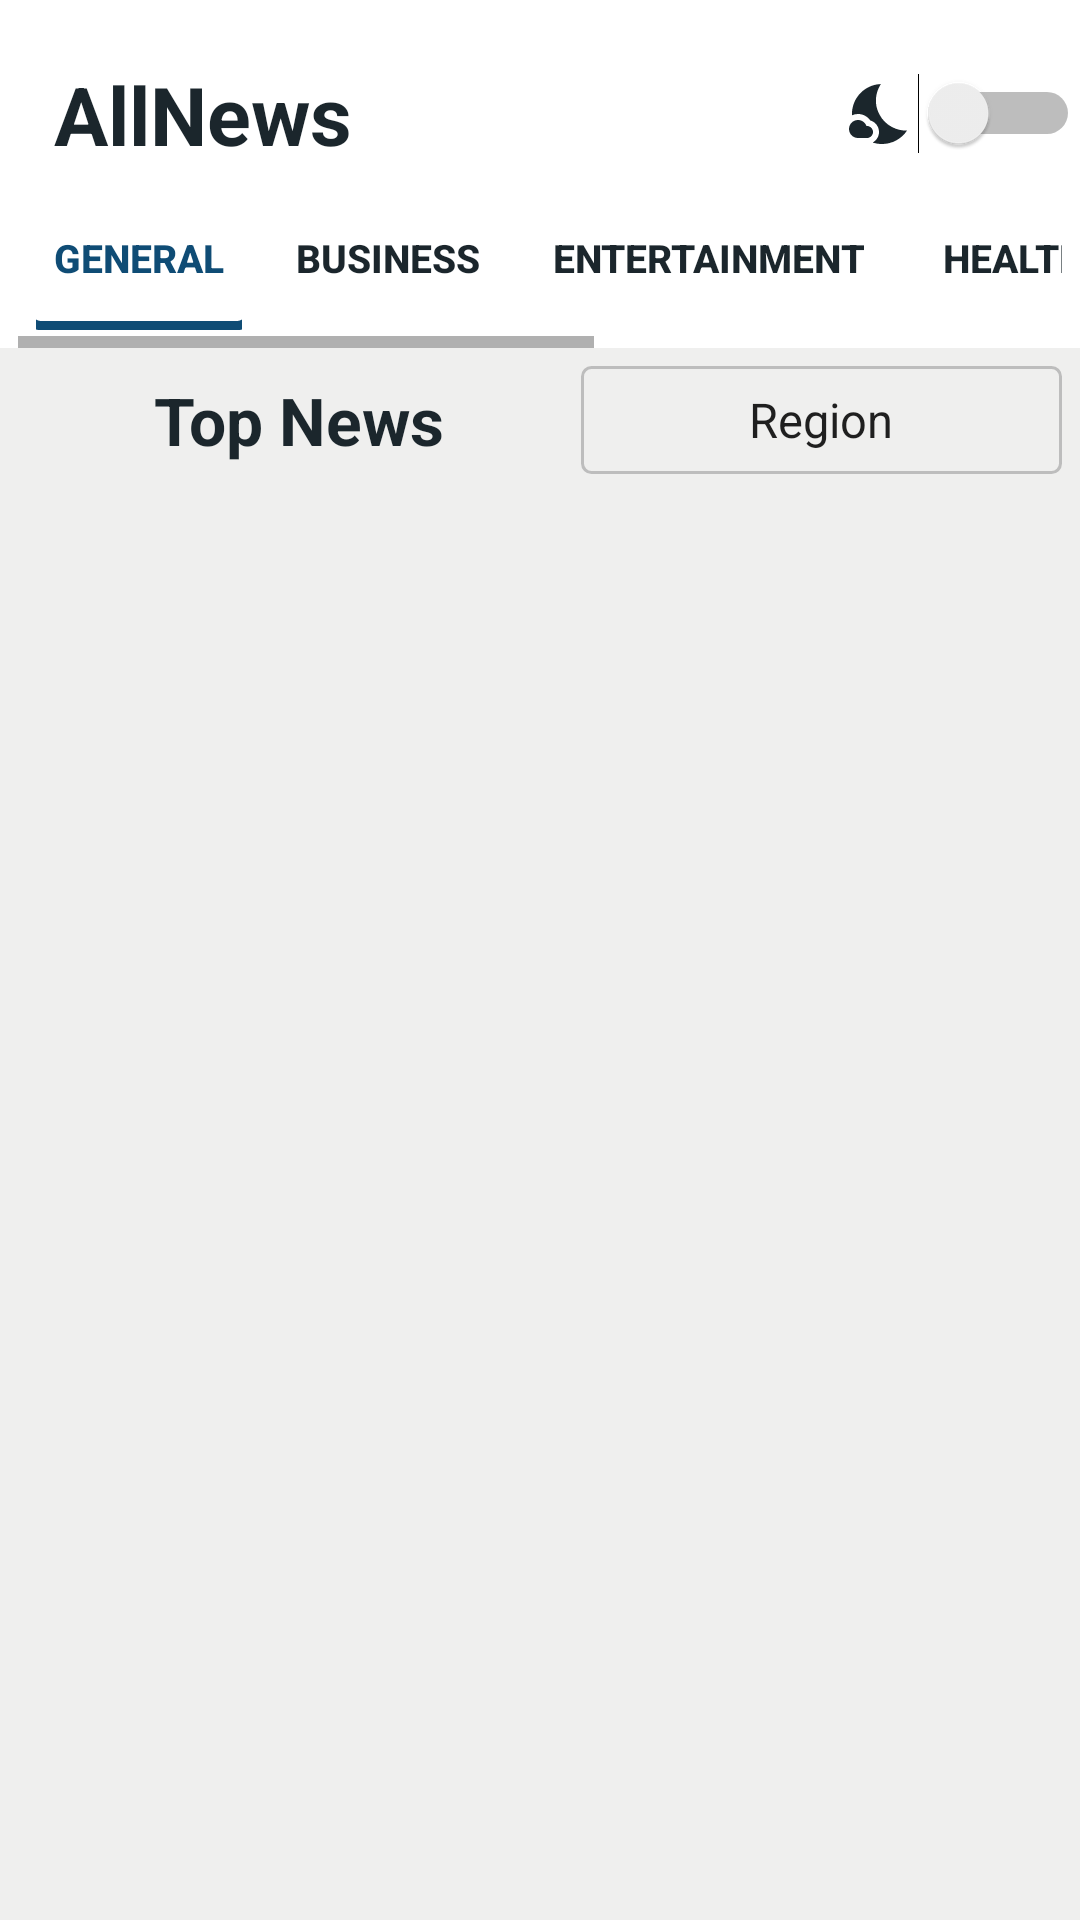

Screen size 1080*1920. Icon name, then its box in pixels as [x1,y1,x2,y2]:
nights stay: [849,84,907,144]
